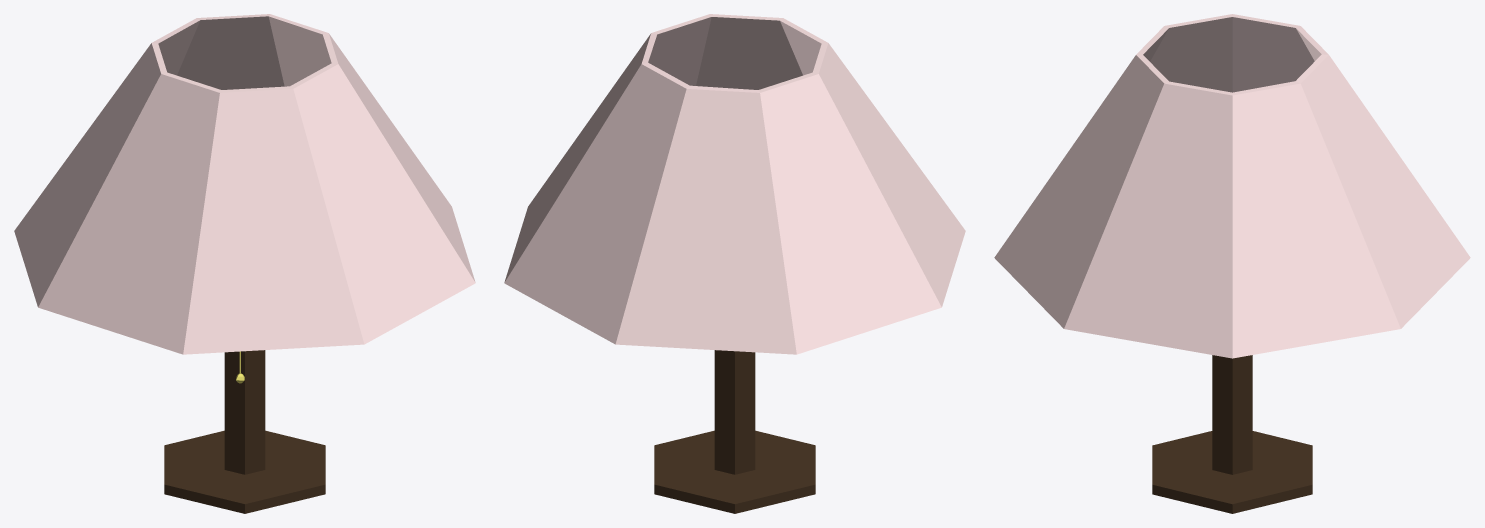
File: Lamp2.fbx
The picture shows the model from 3 angles, left to right: view 1: azimuth 30°, elevation 25°; view 2: azimuth 150°, elevation 25°; view 3: azimuth 270°, elevation 25°; orthographic projection.
Visible parts, largest first — view 1: pCylinder1, pCylinder2; view 2: pCylinder1, pCylinder2; view 3: pCylinder1, pCylinder2.
Boxes of the visible parts, bbox=[...] form: pCylinder1: bbox=[14, 14, 475, 354]; pCylinder2: bbox=[164, 350, 325, 513]; pCylinder1: bbox=[504, 14, 965, 354]; pCylinder2: bbox=[654, 350, 815, 513]; pCylinder1: bbox=[994, 14, 1470, 358]; pCylinder2: bbox=[1152, 355, 1312, 513].
Bounding box in the file's own units: 5.14 × 5 × 5.14.
